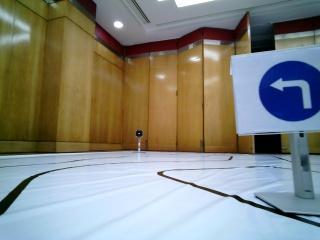left: (232, 52, 316, 126)
